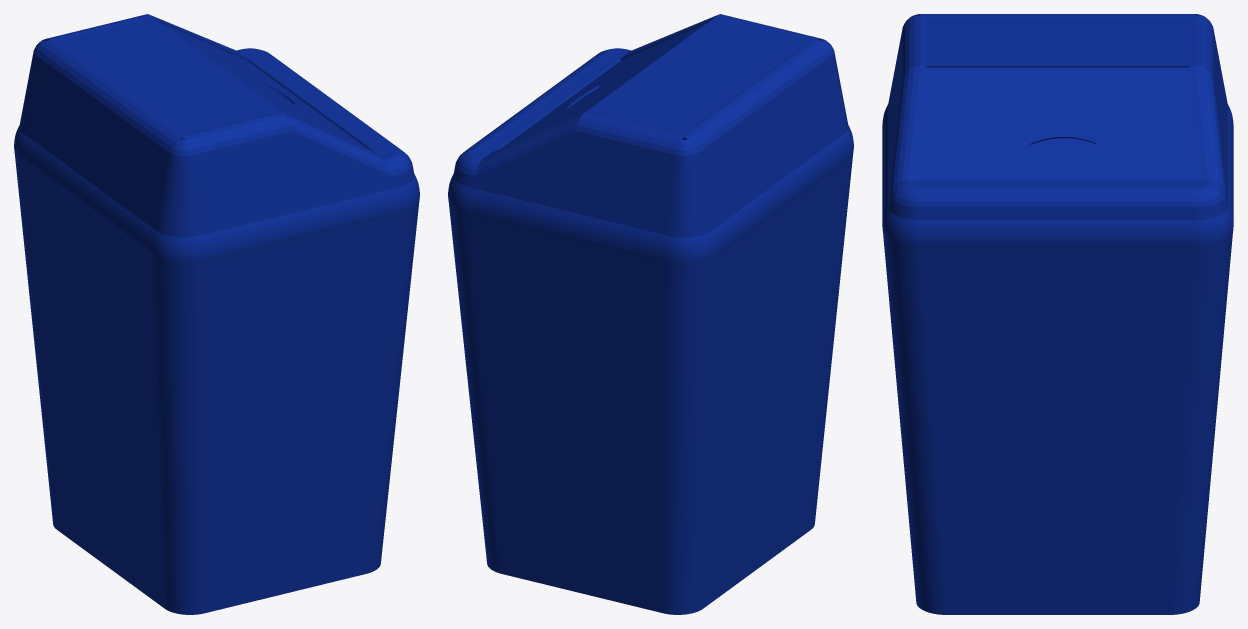
3 views of the same model, side by side, from view 1: azimuth 30°, elevation 25°; view 2: azimuth 150°, elevation 25°; view 3: azimuth 270°, elevation 25° (orthographic). The views are drawn at different scales.
Visible parts, largest first — view 1: mesh1_mesh1-geometry; view 2: mesh1_mesh1-geometry; view 3: mesh1_mesh1-geometry.
Part boxes in pixels (x1,y1,x2,y2): mesh1_mesh1-geometry: (14,14,419,614); mesh1_mesh1-geometry: (448,14,853,614); mesh1_mesh1-geometry: (882,14,1233,614).
Bounding box in the file's own units: 0.4347 × 0.758 × 0.4864.
